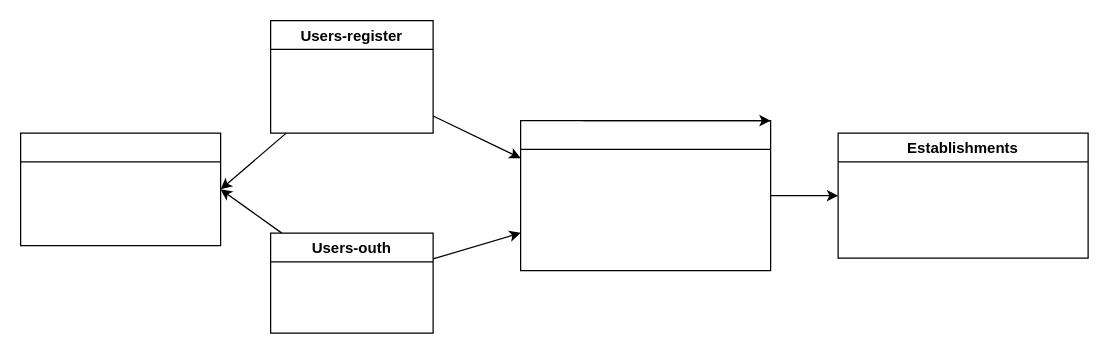
Some shapes in this 1109 by 354 pixel diagram are drawn without their labels. Each missing label, with the centre of its shape:
"Companies" goes at point 645,195.
"profile" goes at point 120,189.
